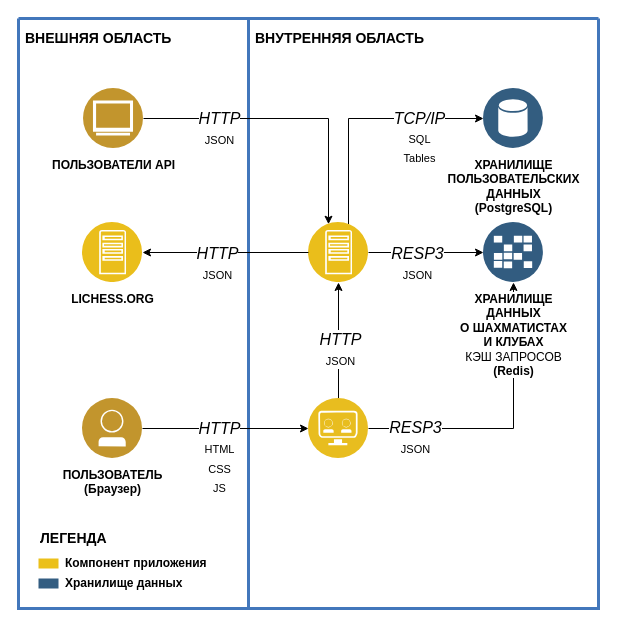
Image size: 617x627. Some labels were removed from this diagram. The centre of each missing label's shape, as x and y in pixels:
"БЭКЕНД-СЕРВЕР (ASP.NET)" belongs at (338,252).
"КЛИЕНТСКОЕ ПРИЛОЖЕНИЕ (Angular)" belongs at (338,428).
